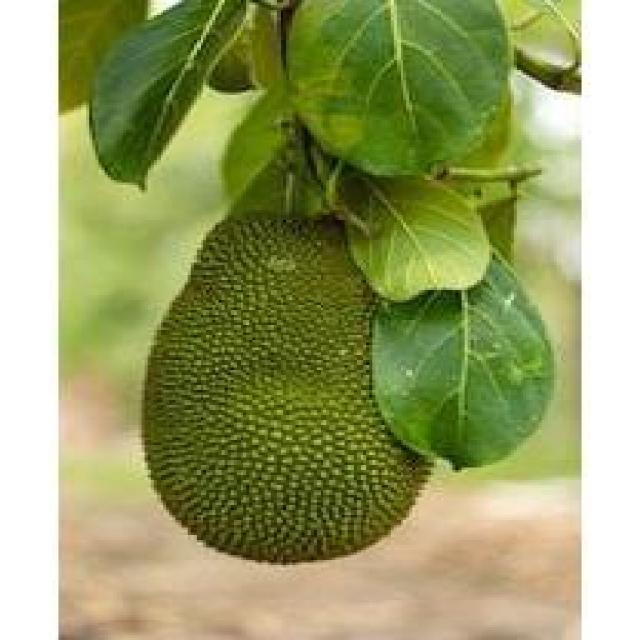Fruit: (117, 190, 468, 595)
